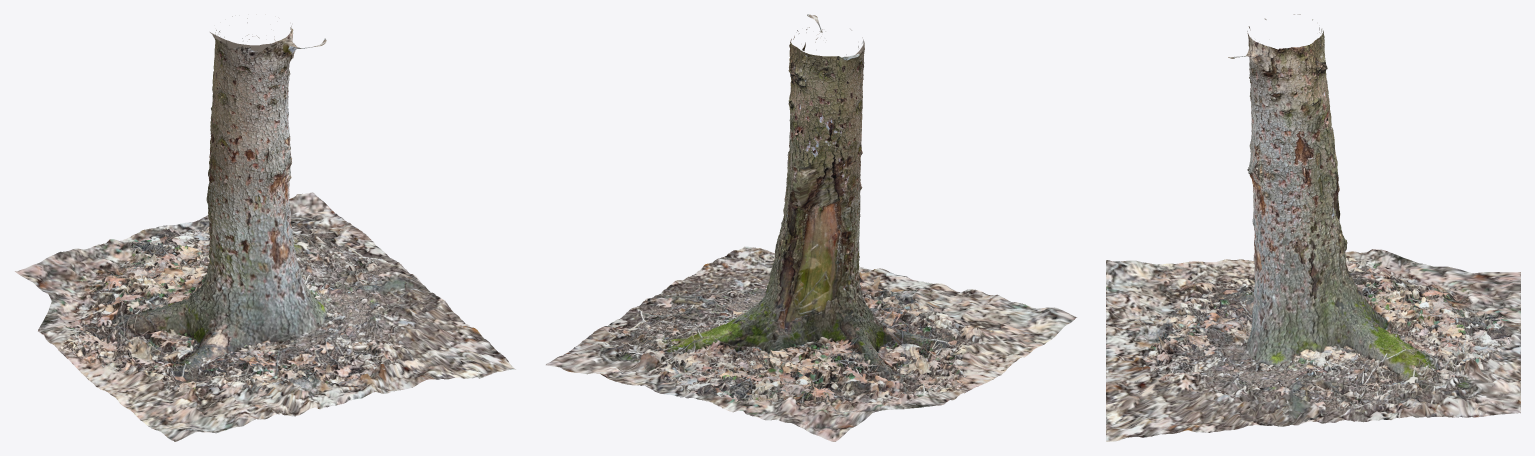
Rendered from fir_trunk._spruce_trunk.glb.
The picture shows the model from 3 angles, left to right: view 1: azimuth 30°, elevation 25°; view 2: azimuth 150°, elevation 25°; view 3: azimuth 270°, elevation 25°; orthographic projection. The views are drawn at different scales.
Parts seen in each view (by area): view 1: Object_4, Object_5, Object_6, Object_7, Object_8; view 2: Object_5, Object_4, Object_6, Object_7, Object_8; view 3: Object_4, Object_5, Object_6, Object_7, Object_8.
Boxes of the visible parts, x1=… form: Object_4: x1=15, y1=34, x2=515, y2=427; Object_5: x1=34, y1=27, x2=482, y2=441; Object_6: x1=15, y1=28, x2=501, y2=433; Object_7: x1=19, y1=16, x2=490, y2=428; Object_8: x1=36, y1=18, x2=487, y2=393; Object_5: x1=585, y1=29, x2=1076, y2=428; Object_4: x1=546, y1=39, x2=1053, y2=441; Object_6: x1=565, y1=19, x2=1063, y2=441; Object_7: x1=566, y1=14, x2=1044, y2=431; Object_8: x1=601, y1=15, x2=1003, y2=434; Object_4: x1=1106, y1=27, x2=1520, y2=441; Object_5: x1=1106, y1=31, x2=1520, y2=432; Object_6: x1=1106, y1=31, x2=1520, y2=437; Object_7: x1=1106, y1=14, x2=1520, y2=431; Object_8: x1=1106, y1=14, x2=1520, y2=432.
Size of the model in its own units: 2.34 by 2.08 by 2.42.
Materials: 1 (1 with a texture image).
